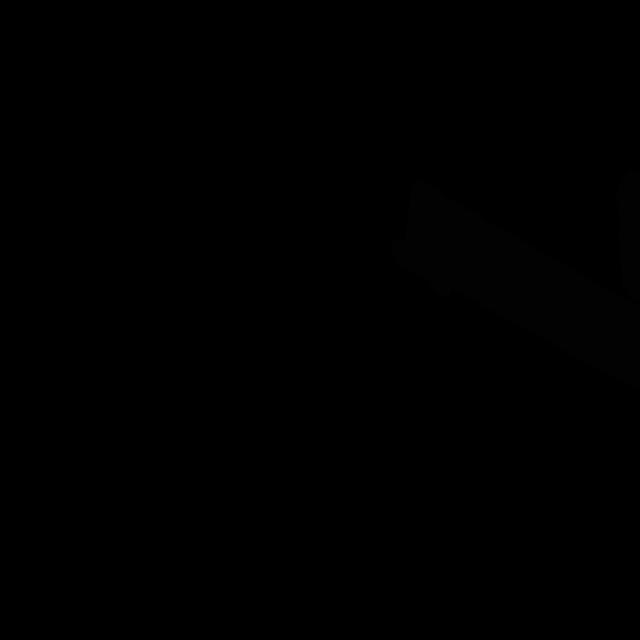cardboard: (390, 179, 640, 393), (616, 169, 640, 301)
